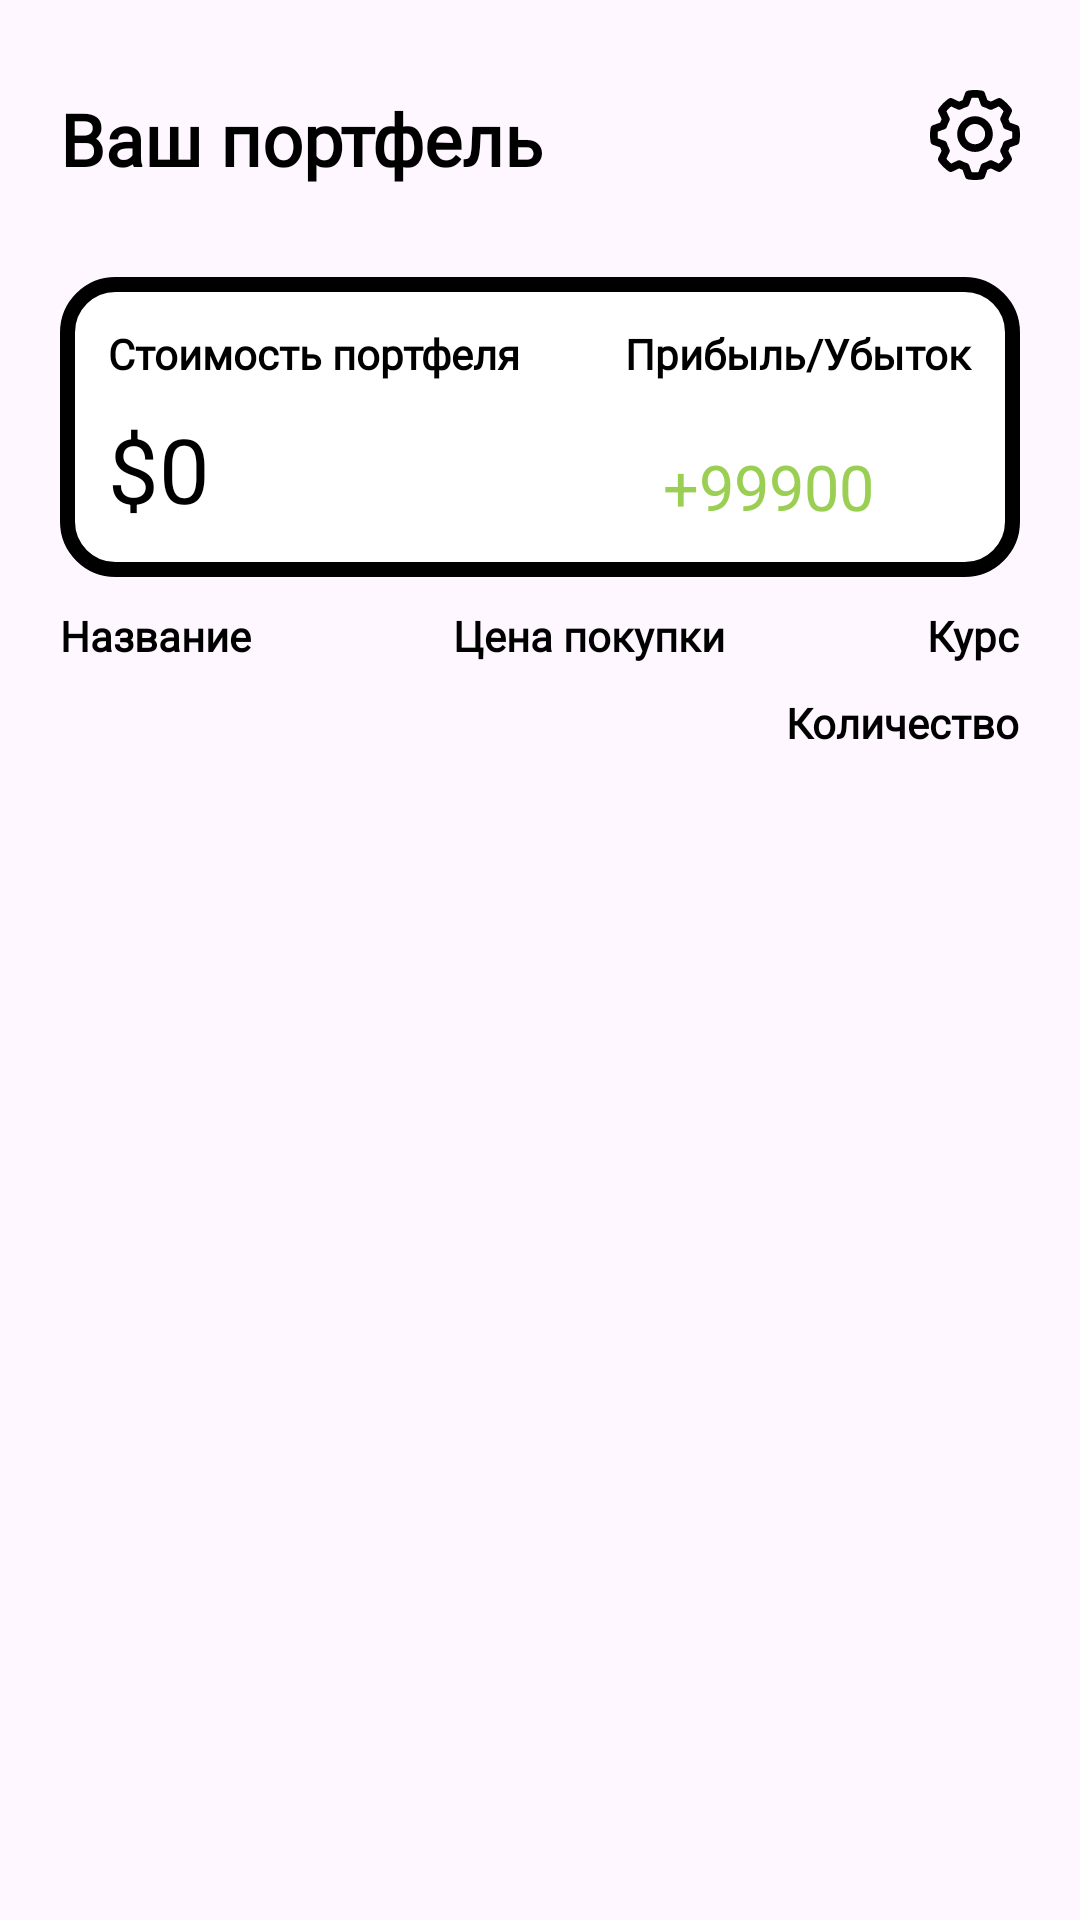

Icon click points for this 1080 × 1920 phone screenshot, format (x,y):
settings: (975,135)
